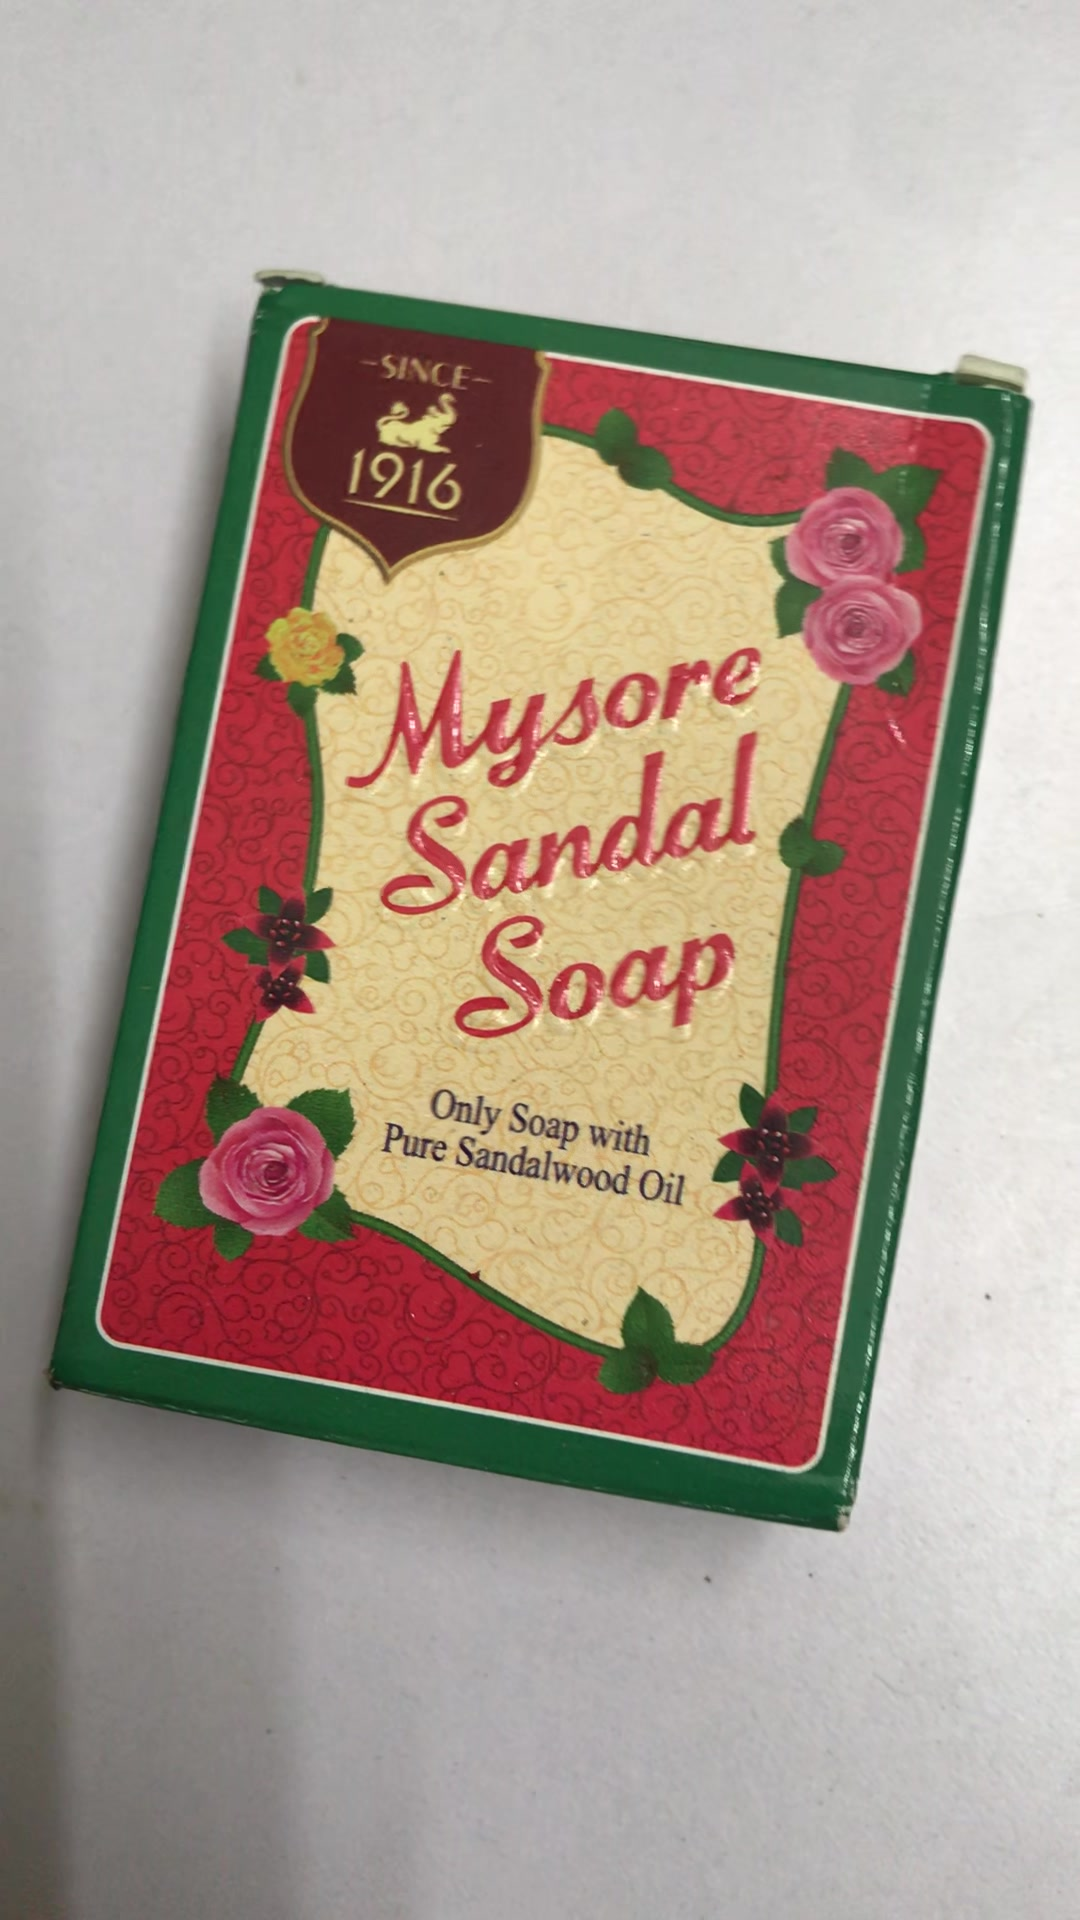mysore sandal soap: (45, 269, 1030, 1534)
